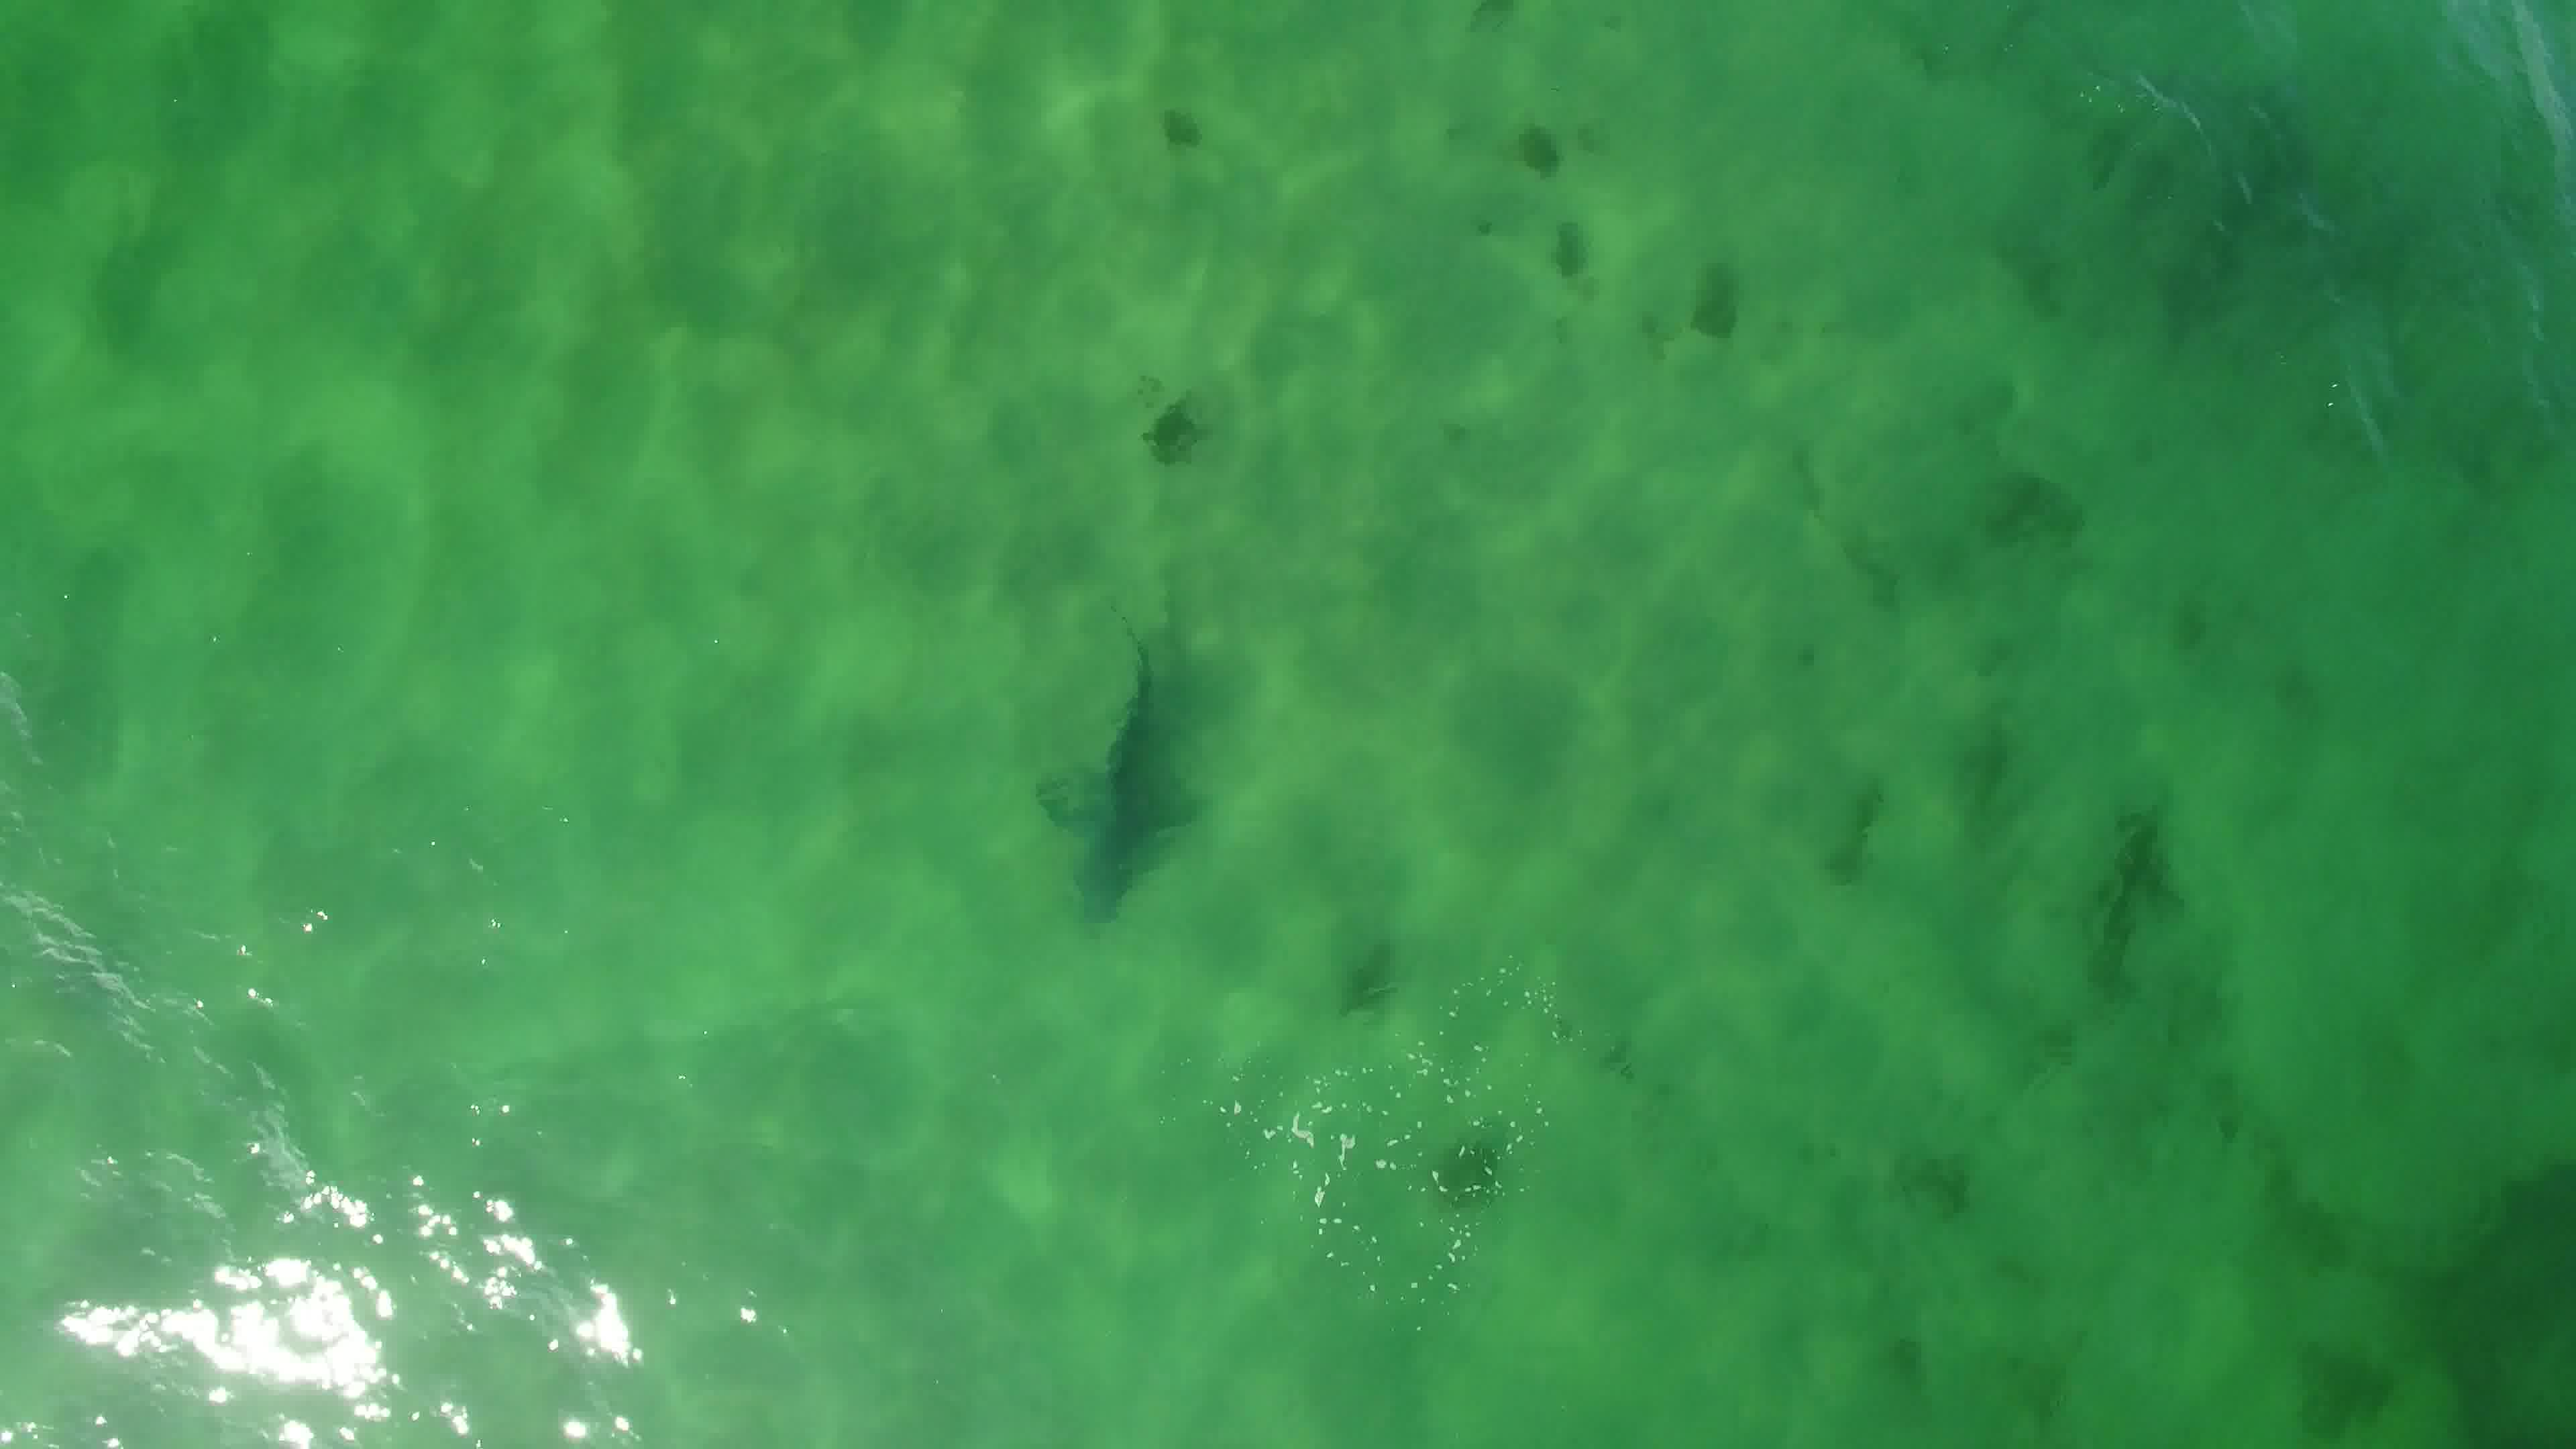shark: (1033, 603, 1207, 936)
